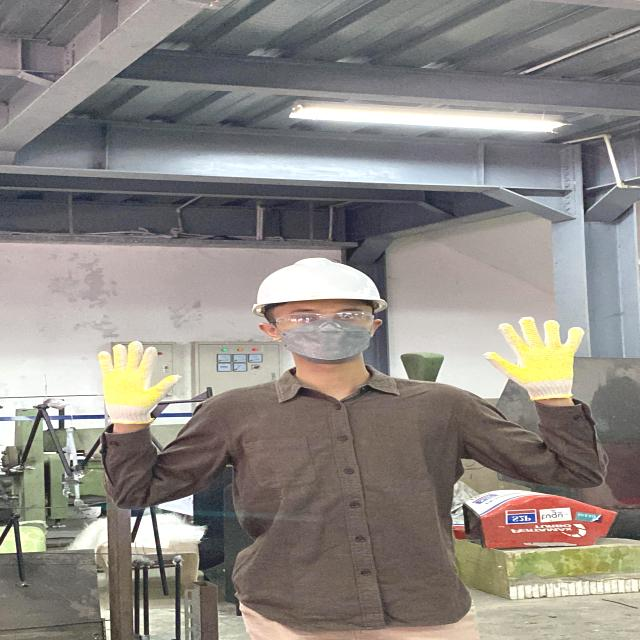face_mask: (275, 305, 388, 360)
glasses: (267, 308, 382, 333)
hand_glove: (483, 316, 590, 392), (86, 342, 186, 413)
head_helmet: (246, 254, 403, 314)
person: (80, 248, 610, 640)
